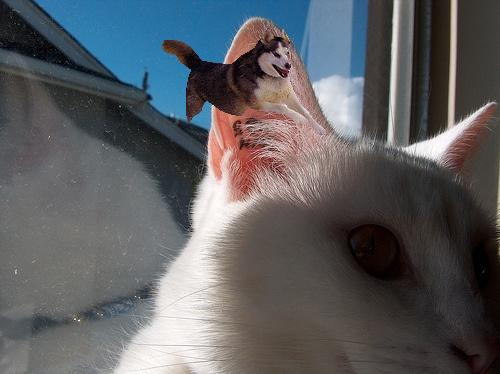tampered: (162, 29, 326, 135)
